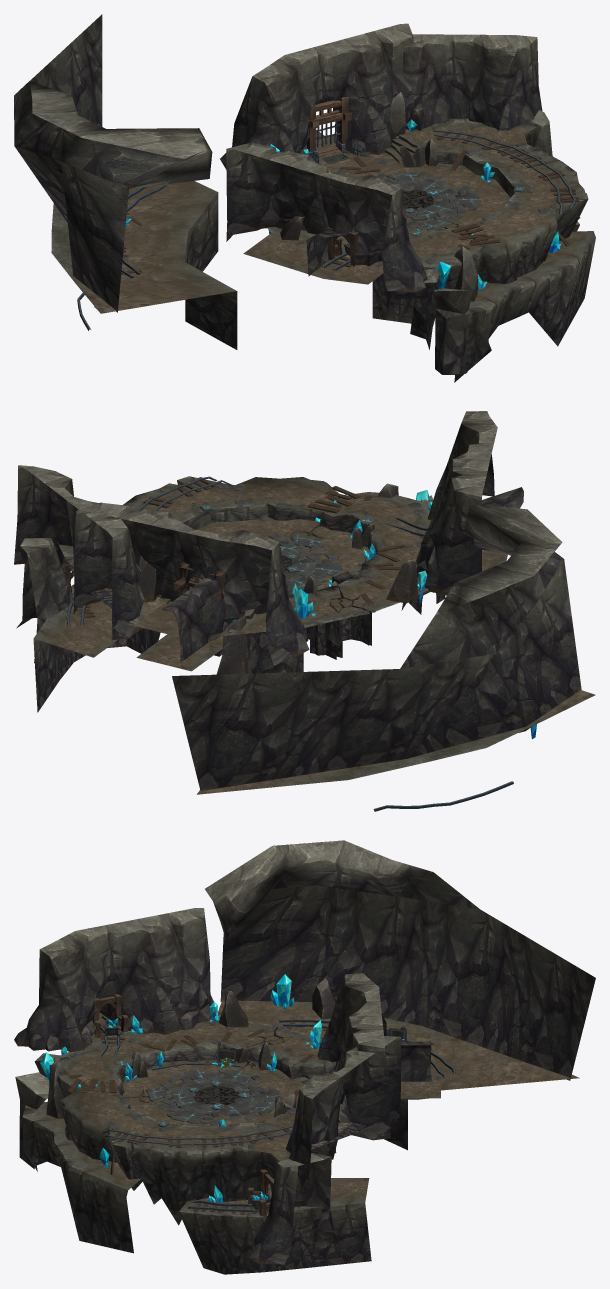
Rendered from section03_guanka08.FBX.
The picture shows the model from 3 angles, top to bottom: view 1: azimuth 30°, elevation 25°; view 2: azimuth 150°, elevation 25°; view 3: azimuth 270°, elevation 25°; orthographic projection. The views are drawn at different scales.
Visible parts, largest first — view 1: section03_guanka08; view 2: section03_guanka08; view 3: section03_guanka08.
Boxes of the visible parts, x1,y1,x2,y2 form: section03_guanka08: (14, 14, 595, 382); section03_guanka08: (14, 411, 595, 811); section03_guanka08: (14, 840, 595, 1274).
Bounding box in the file's own units: 93.01 × 96.48 × 40.42.
